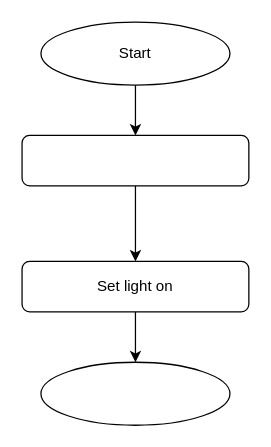
Some shapes in this 271 by 447 pixel diagram are drawn without their labels. The shapes that lost their labels are listed below. From the top down, each one's box as (x1, y1, x2, y2) in pixels, then its label:
(21, 134, 249, 186): Set Data Direction Register
(40, 361, 230, 425): Done
